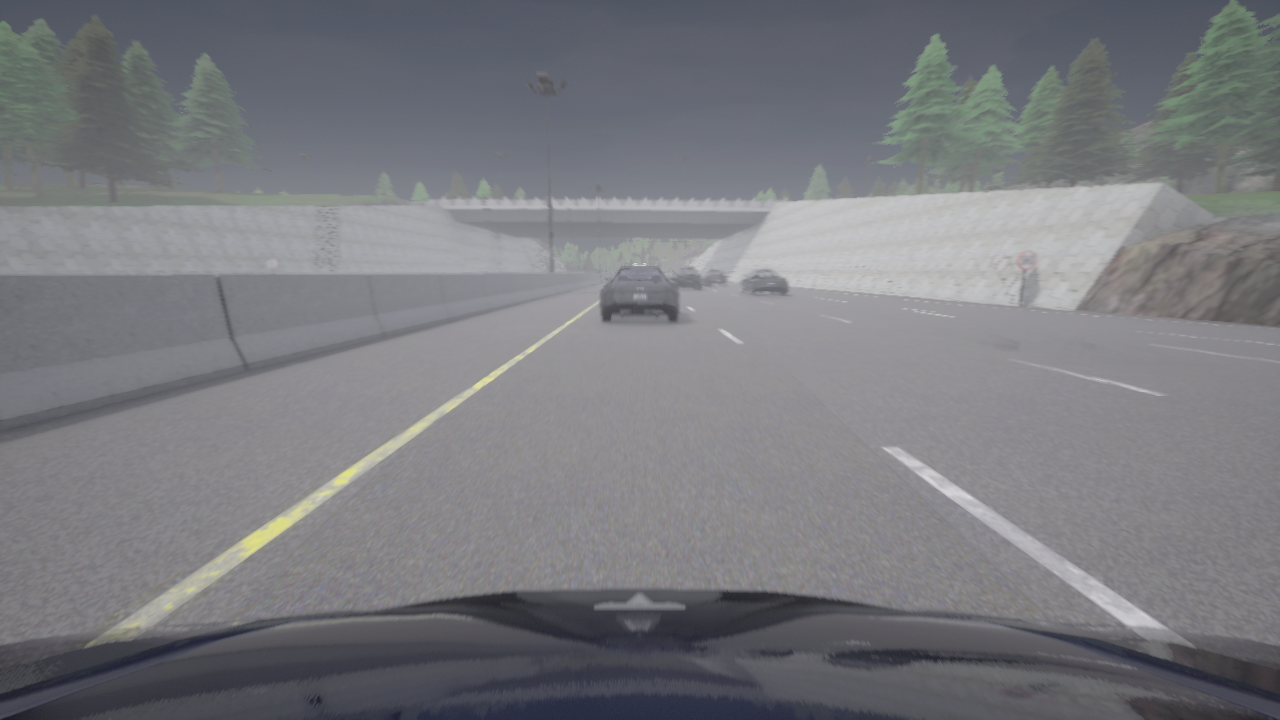cyclist: (0, 588, 1279, 719), (600, 267, 679, 322), (740, 270, 787, 295), (672, 267, 701, 289), (703, 270, 727, 286), (720, 270, 728, 281), (632, 264, 647, 266)
